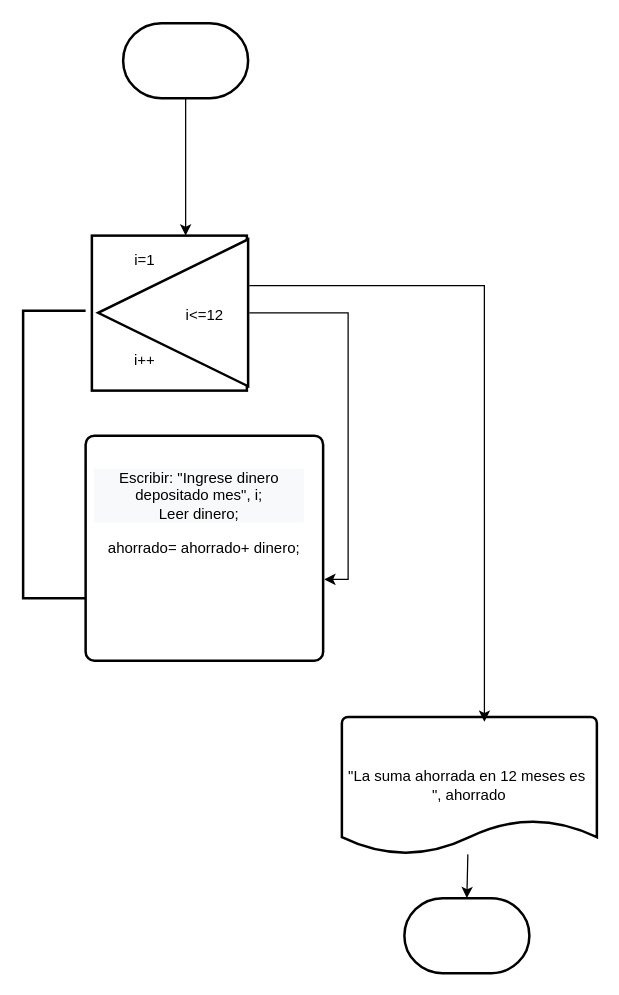
This 619x995 diagram has some shape labels left out. The centre of each missing label's shape, as x and y in pixels:
Fin: point (466, 935)
Inicio: point (185, 60)
